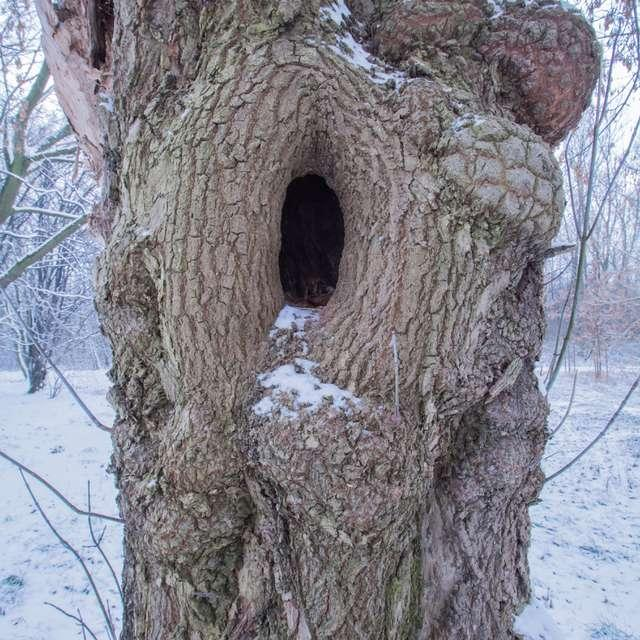hollow: (279, 174, 343, 305)
